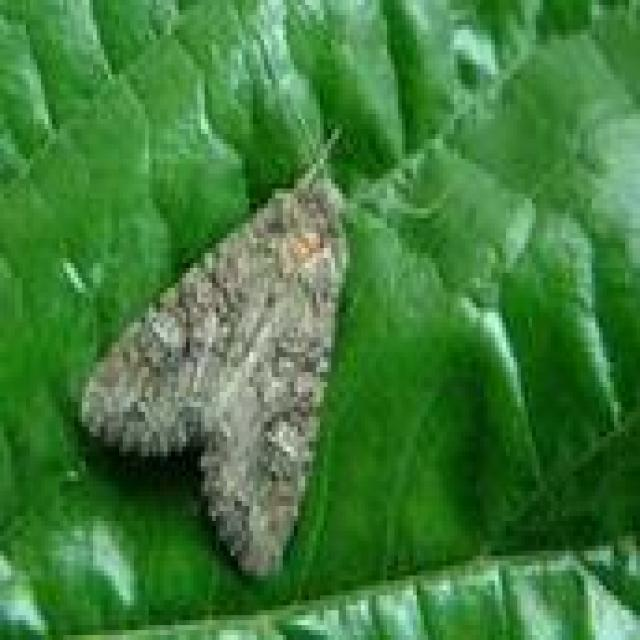armyworm: (96, 130, 356, 585)
